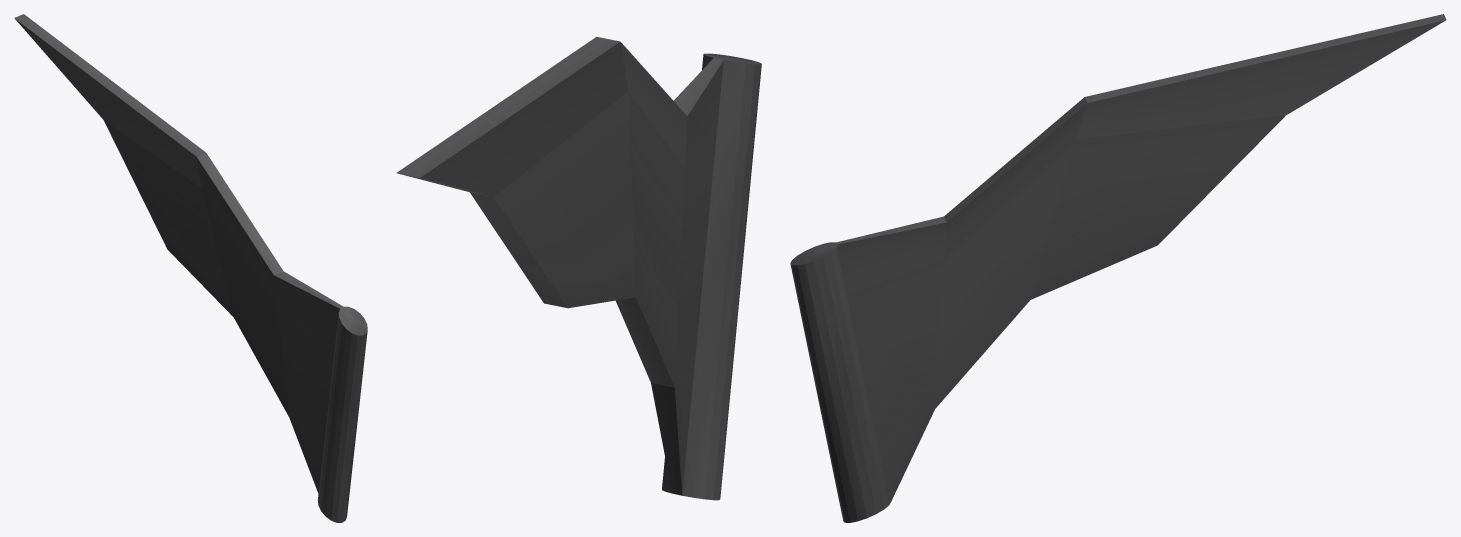
The model's file is Murcielago.fbx.
3 views of the same model, side by side, from view 1: azimuth 30°, elevation 25°; view 2: azimuth 150°, elevation 25°; view 3: azimuth 270°, elevation 25° (orthographic). The views are drawn at different scales.
Parts seen in each view (by area): view 1: IO_BatWing; view 2: IO_BatWing; view 3: IO_BatWing.
Part boxes in pixels (x1,y1,x2,y2): IO_BatWing: (14, 14, 367, 522); IO_BatWing: (396, 36, 761, 500); IO_BatWing: (790, 14, 1446, 522).
Bounding box in the file's own units: 0.3117 × 1.03 × 1.36.
